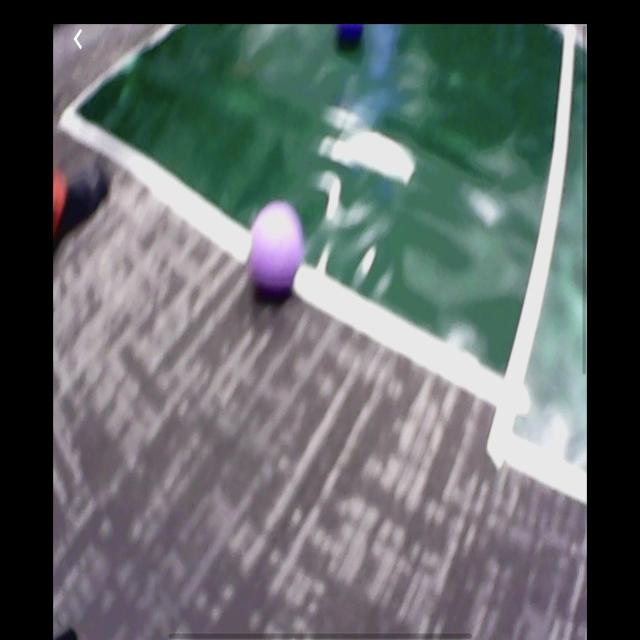ball: (249, 201, 303, 302), (336, 25, 367, 52)
